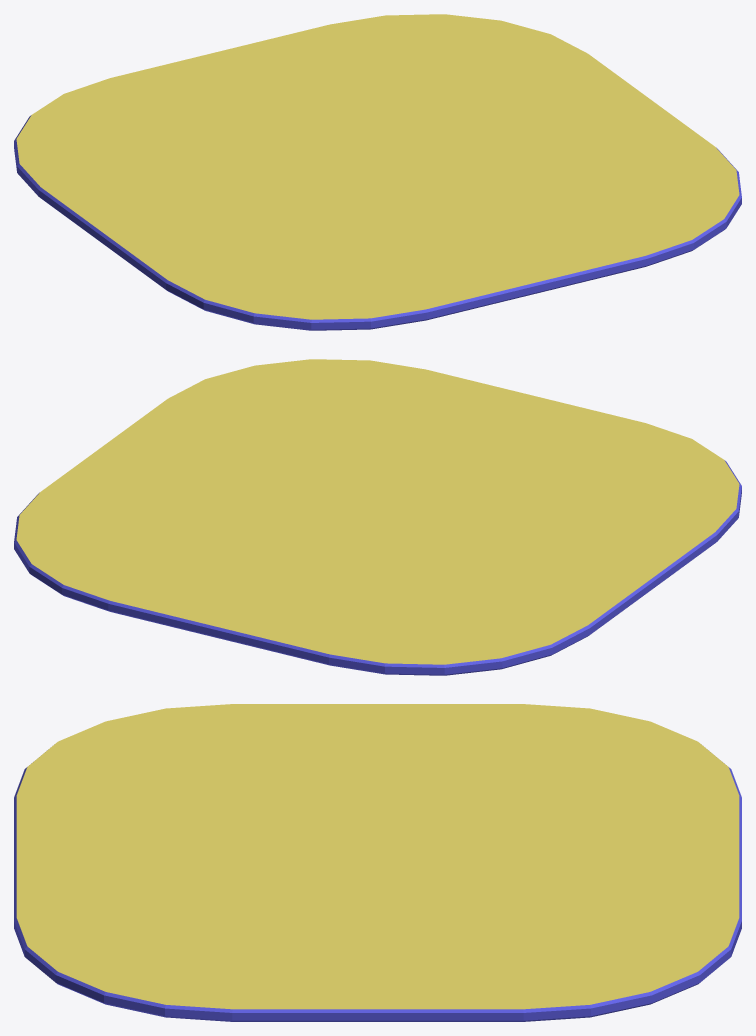
3 views of the same model, one above another, from view 1: azimuth 30°, elevation 25°; view 2: azimuth 150°, elevation 25°; view 3: azimuth 270°, elevation 25° (orthographic). The views are drawn at different scales.
Parts seen in each view (by area): view 1: Cube; view 2: Cube; view 3: Cube.
Part boxes in pixels (left/top/right/bottom): Cube: left=14, top=14, right=741, bottom=330; Cube: left=14, top=359, right=741, bottom=675; Cube: left=14, top=704, right=741, bottom=1021.
Bounding box in the file's own units: 1 × 0.019 × 1.
